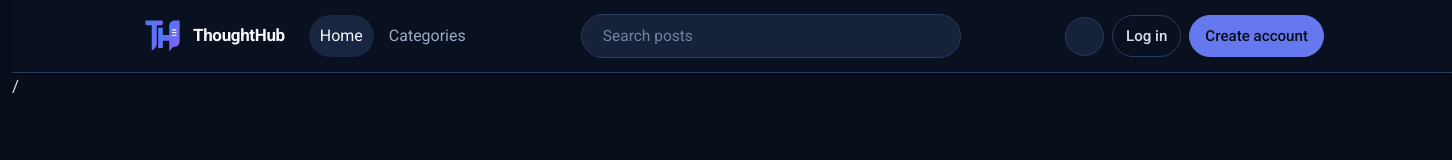
Test: AppNavbar › waits for submission before leaving the current page
The image size is (1452, 160).
In the search field named "Search published posts by title, author, category, or tag": x=775, y=36 [603,24,947,48], type "Django"
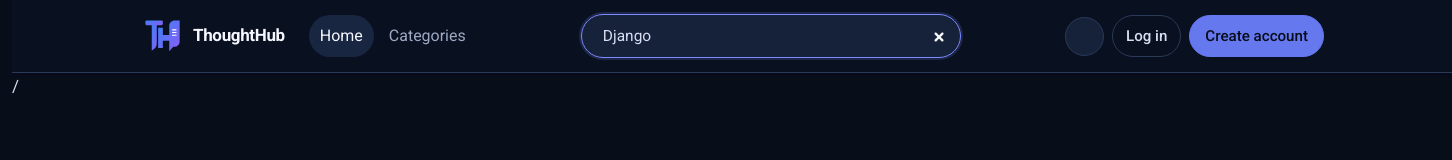
Expected: the text with test id "current-path" reads "/", [12,76,19,96]
Press Enter
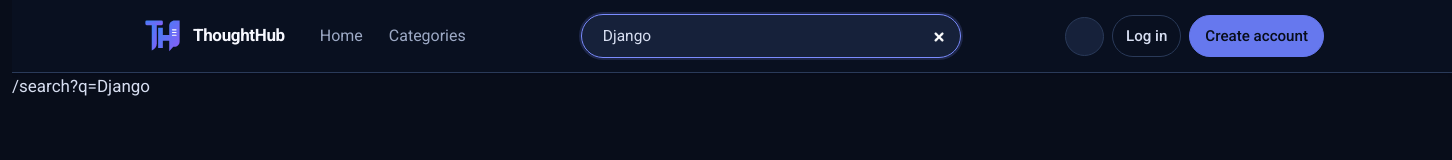
Now the text with test id "current-path" reads "/search?q=Django", box [12,73,150,100]
